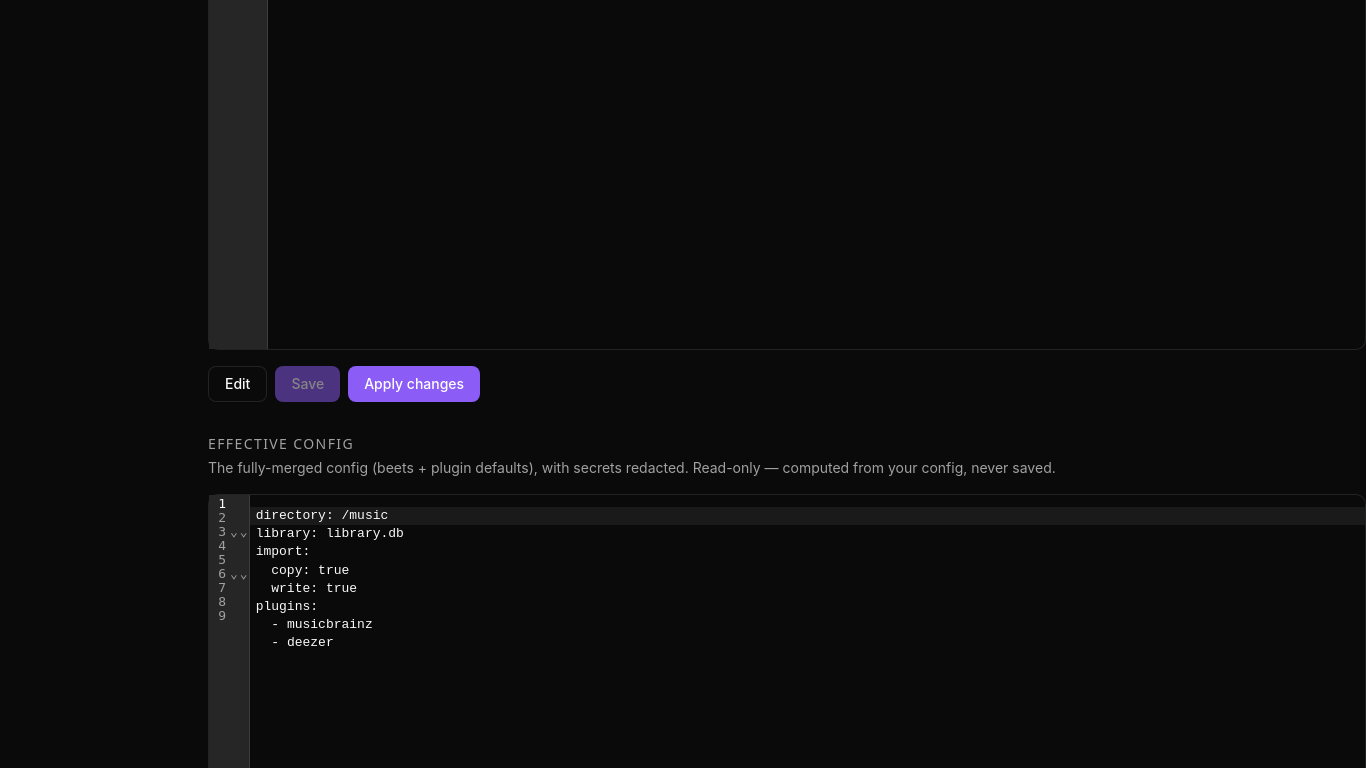
Test: SettingsPage › an Apply failure surfaces a destructive banner with the recovery hint
(page scrolled)
What coordinates should you click on to do the following:
click the button "Apply changes"
I would click on:
 (414, 384)
Its box is [348,366,480,402].
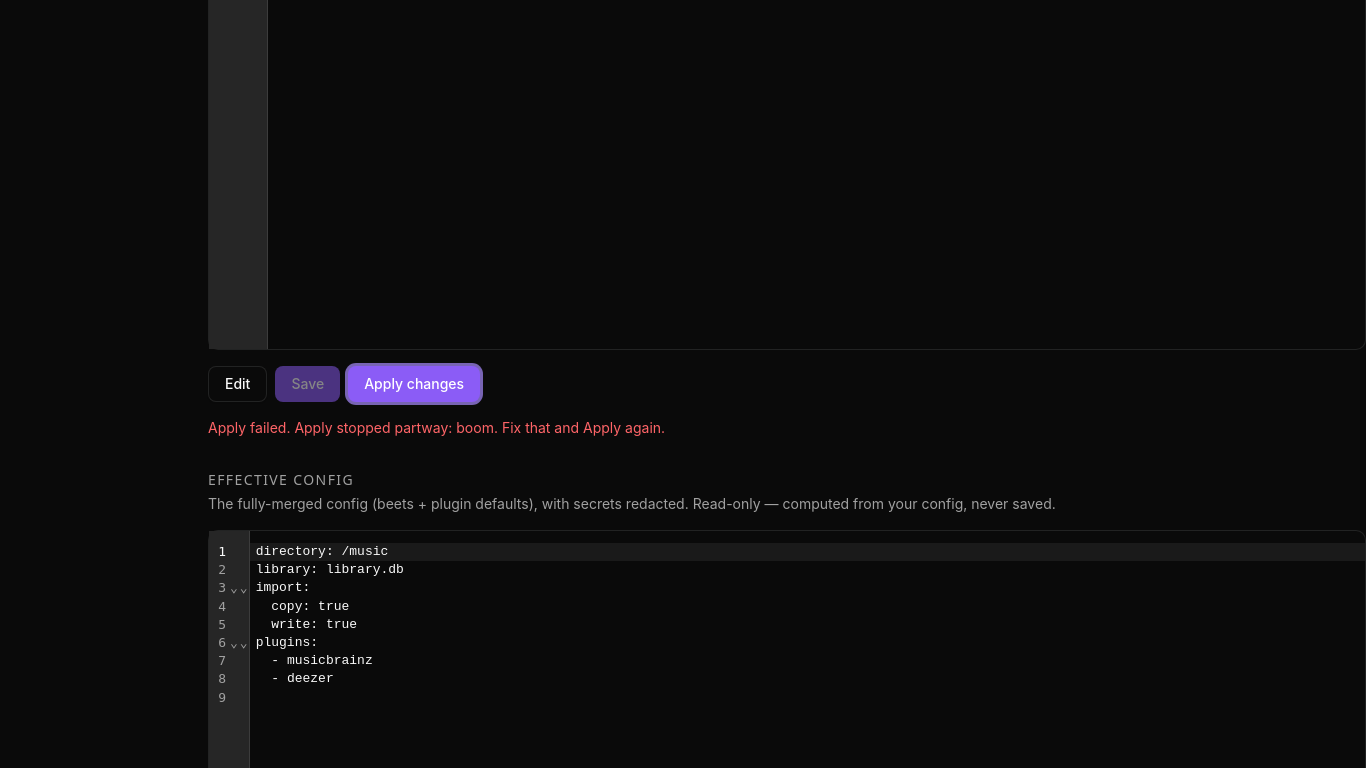
Result: the text "Apply failed. Apply stopped partway: boom. Fix that and Apply again." is shown at [208,419,665,436]
